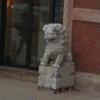Statue: (29, 18, 85, 89)
